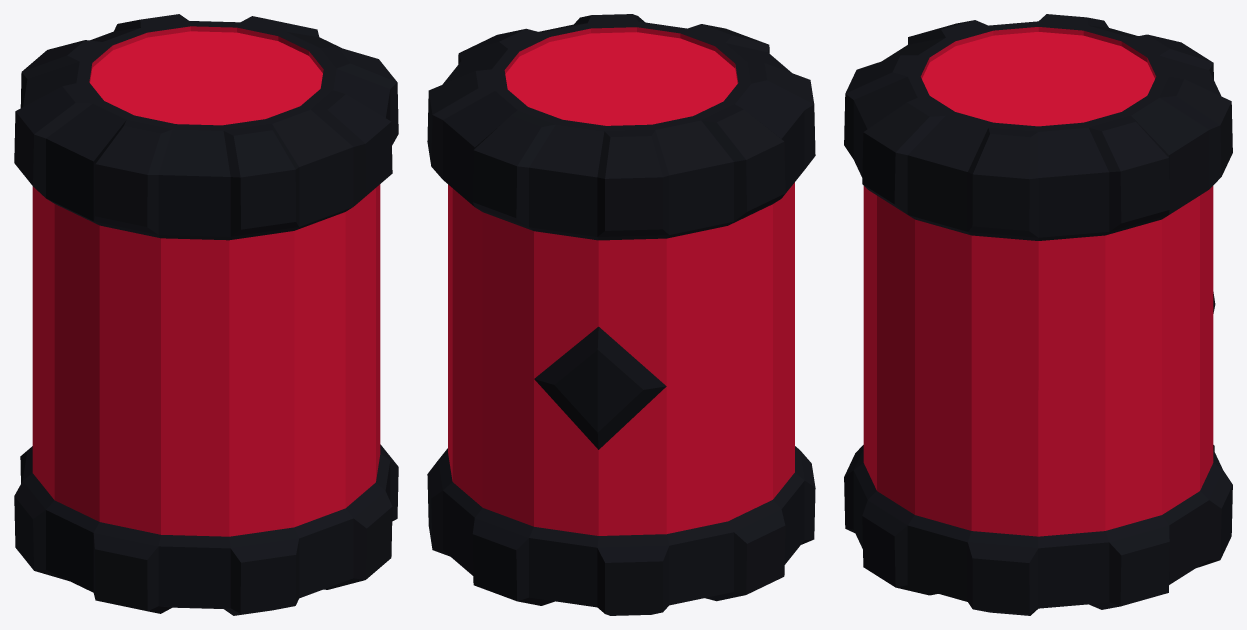
The model's file is sci-fi-barrel.fbx.
3 views of the same model, side by side, from view 1: azimuth 30°, elevation 25°; view 2: azimuth 150°, elevation 25°; view 3: azimuth 270°, elevation 25° (orthographic).
Visible parts, largest first — view 1: Cylinder; view 2: Cylinder; view 3: Cylinder.
Boxes of the visible parts, left/top/right/bottom form: Cylinder: left=14, top=14, right=398, bottom=615; Cylinder: left=427, top=14, right=815, bottom=615; Cylinder: left=844, top=14, right=1232, bottom=615.
Bounding box in the file's own units: 75.29 × 102 × 75.29.
Materials: 1 (1 with a texture image).
